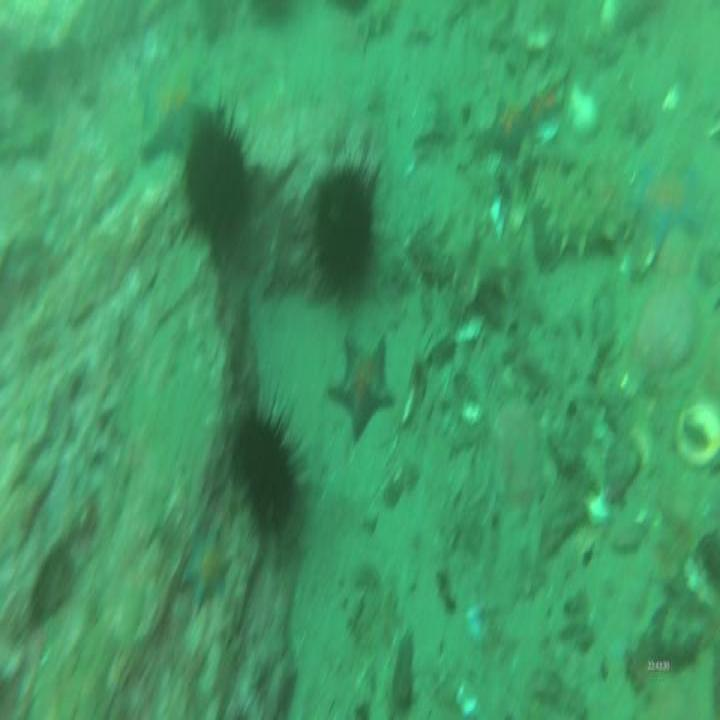echinus: (231, 388, 307, 554), (177, 108, 250, 260), (308, 158, 379, 299)
holothurian: (424, 197, 524, 311), (532, 162, 626, 261)
starfish: (132, 50, 216, 169), (621, 154, 708, 260), (328, 332, 399, 448), (177, 524, 233, 618), (475, 89, 544, 165)
